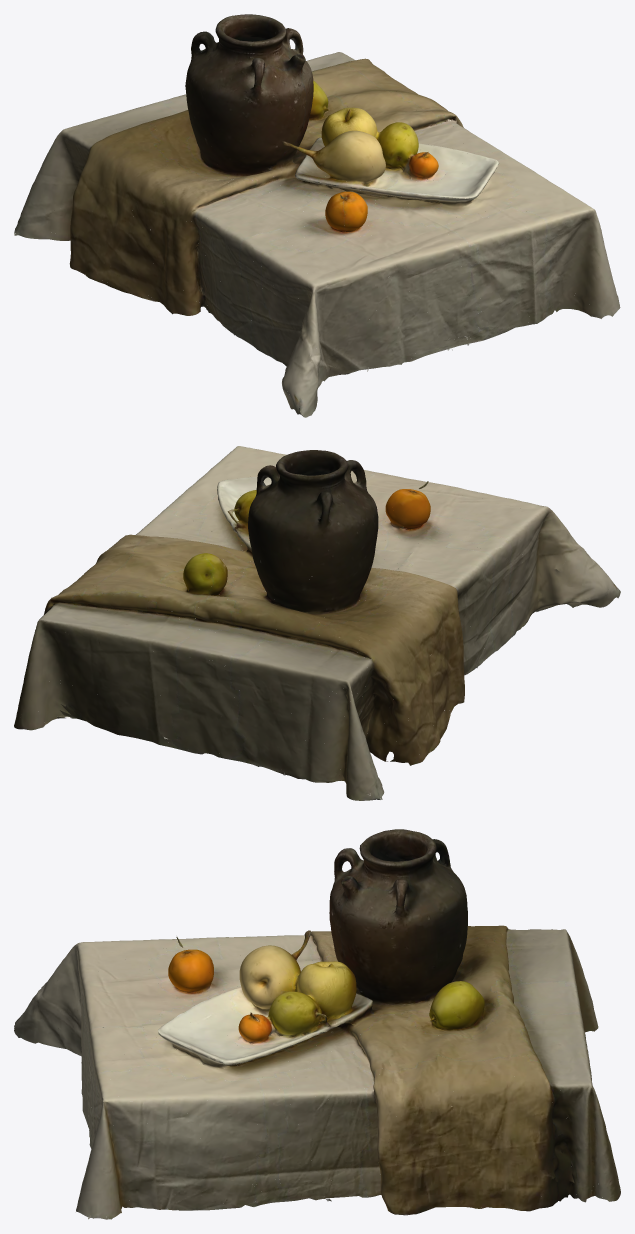
File: 静物_其它_陶罐水果组合03_opt.glb
3 renders of one model, top to bottom at view 1: azimuth 30°, elevation 25°; view 2: azimuth 150°, elevation 25°; view 3: azimuth 270°, elevation 25°, orthographic. The views are drawn at different scales.
Parts seen in each view (by area): view 1: defaultMat, defaultMat_1; view 2: defaultMat, defaultMat_1; view 3: defaultMat, defaultMat_1.
Boxes of the visible parts, x1,y1,x2,y2 form: defaultMat: (14, 14, 620, 417); defaultMat_1: (15, 17, 600, 416); defaultMat: (14, 446, 620, 800); defaultMat_1: (18, 450, 620, 800); defaultMat: (14, 829, 620, 1219); defaultMat_1: (14, 832, 620, 1218).
Bounding box in the file's own units: 1.02 × 0.6 × 1.29.
1 material, 1 textured.
